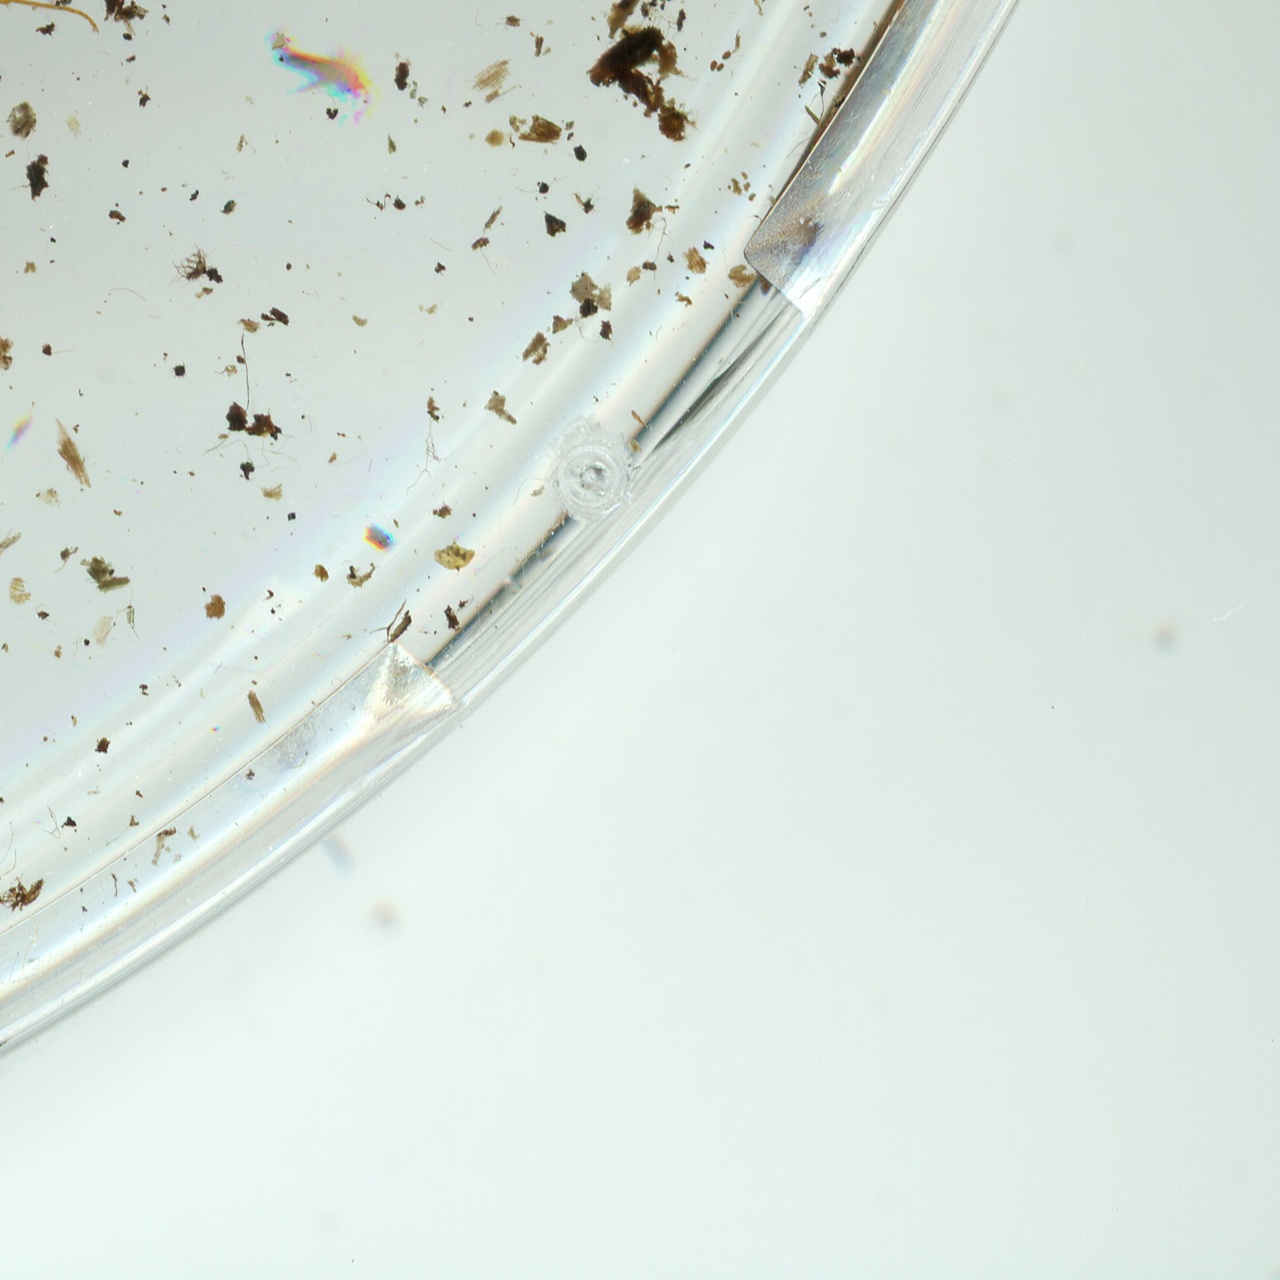arthropod: (0, 0, 125, 285), (257, 11, 397, 136)
